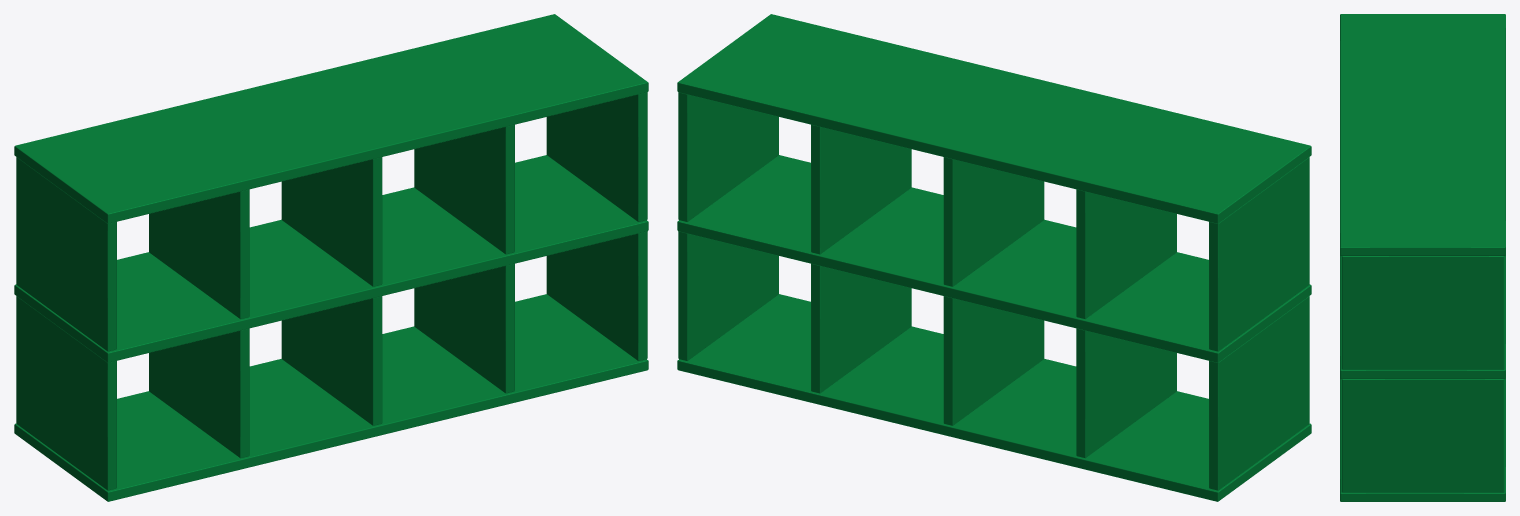
File: WoodShelf-transformed.glb
3 renders of one model, left to right at view 1: azimuth 30°, elevation 25°; view 2: azimuth 150°, elevation 25°; view 3: azimuth 270°, elevation 25°, orthographic. The views are drawn at different scales.
Visible parts, largest first — view 1: Wooden Shelf; view 2: Wooden Shelf; view 3: Wooden Shelf.
Part boxes in pixels (x1=…): Wooden Shelf: x1=14, y1=14, x2=648, y2=501; Wooden Shelf: x1=677, y1=14, x2=1311, y2=501; Wooden Shelf: x1=1340, y1=14, x2=1505, y2=501.
Size of the model in its own units: 1.1 by 0.56 by 0.33.
